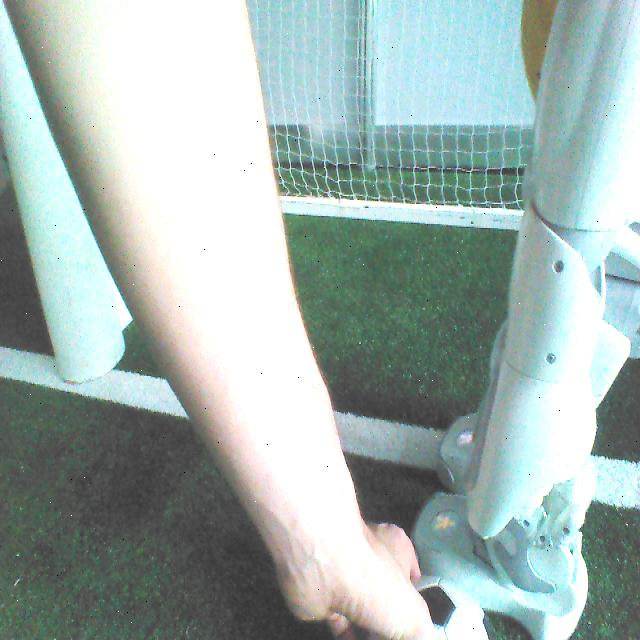ball: (364, 577, 486, 635)
goalpost: (1, 3, 130, 388)
